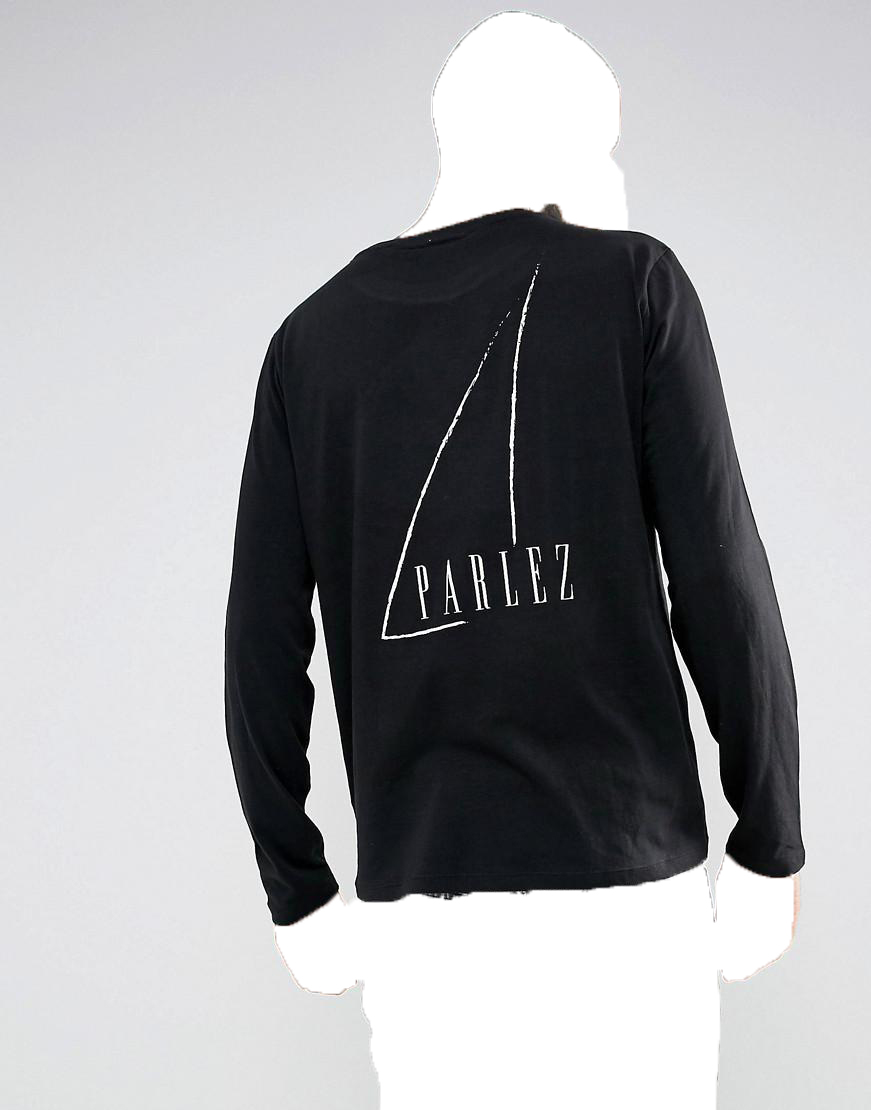teeshirt: (212, 212, 815, 934)
